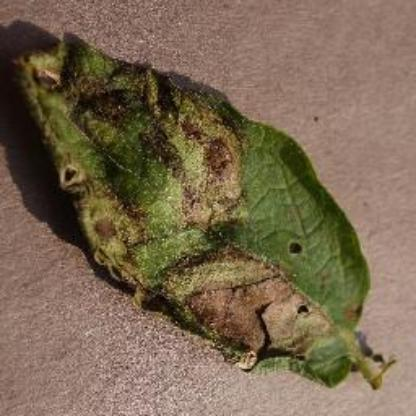Late-Blight: (9, 25, 406, 397)
